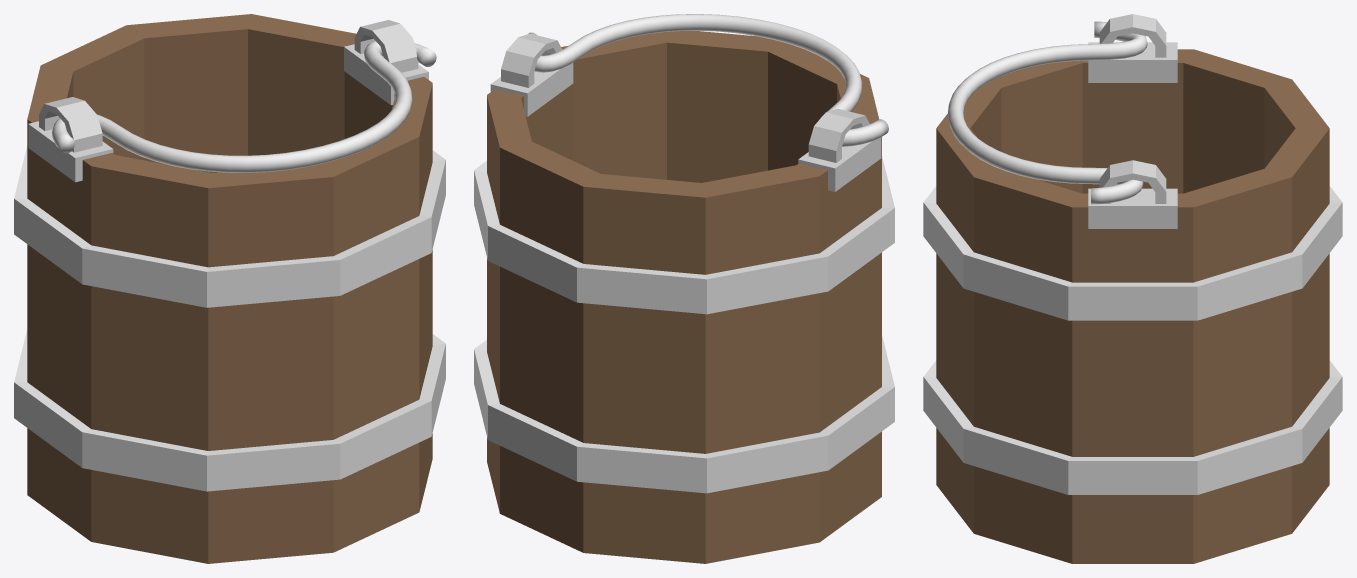
The model's file is Bucket.fbx.
The picture shows the model from 3 angles, left to right: view 1: azimuth 30°, elevation 25°; view 2: azimuth 150°, elevation 25°; view 3: azimuth 270°, elevation 25°; orthographic projection. The views are drawn at different scales.
Visible parts, largest first — view 1: Bucket_Combined; view 2: Bucket_Combined; view 3: Bucket_Combined.
Part boxes in pixels (x1,y1,x2,y2): Bucket_Combined: (14,14,445,563); Bucket_Combined: (474,14,894,563); Bucket_Combined: (923,14,1342,563).
Bounding box in the file's own units: 75.84 × 79.69 × 77.49.
